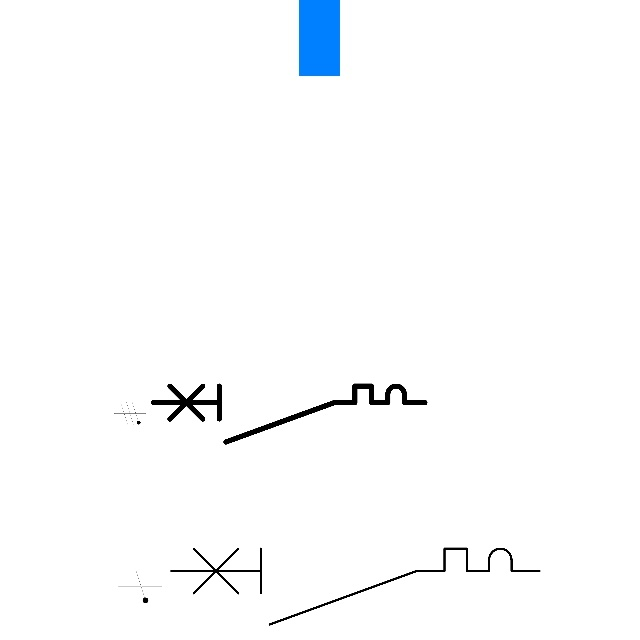interruptor_termomagnetico: (161, 539, 548, 633), (146, 379, 432, 449)
